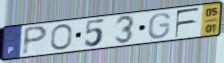3: (114, 14, 136, 46)
5: (84, 17, 108, 49)
F: (173, 6, 201, 39)
G: (147, 12, 172, 40)
O: (50, 23, 74, 51)
P: (20, 24, 50, 57)
